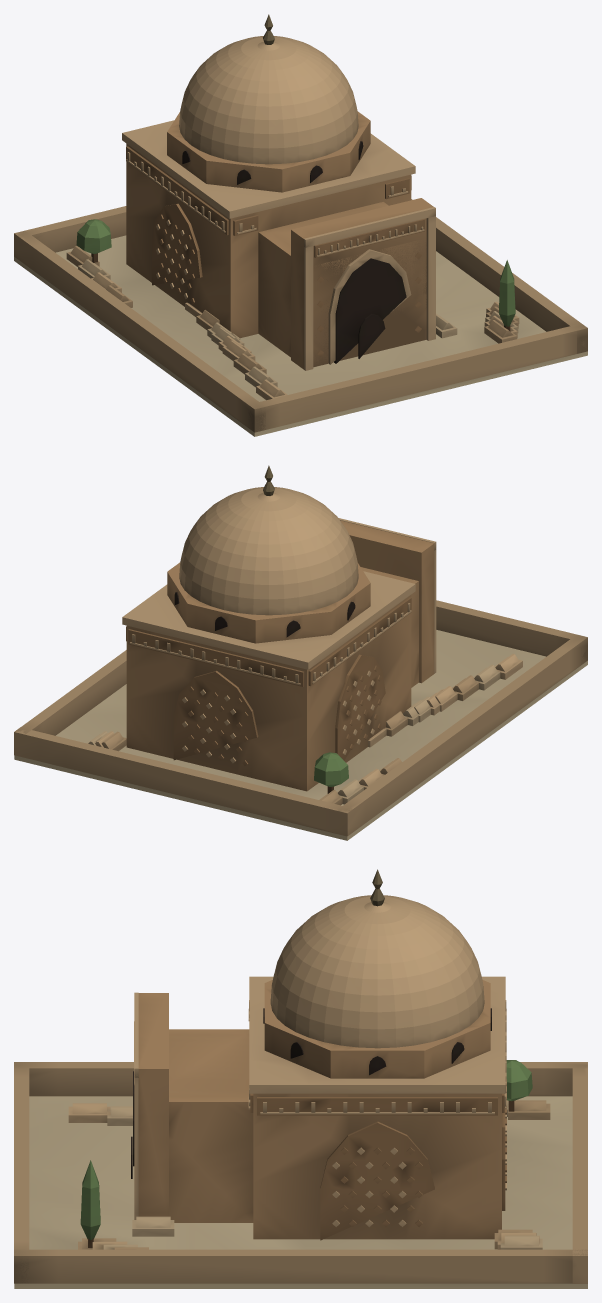
The model's file is muhammad-ibn-zayd.glb.
3 views of the same model, one above another, from view 1: azimuth 30°, elevation 25°; view 2: azimuth 150°, elevation 25°; view 3: azimuth 270°, elevation 25° (orthographic). The views are drawn at different scales.
Visible parts, largest first — view 1: p1_mausoleum, p0_court; view 2: p1_mausoleum, p0_court; view 3: p1_mausoleum, p0_court.
Part boxes in pixels (<box>): p1_mausoleum: <box>122,14,435,370</box>; p0_court: <box>14,199,587,436</box>; p1_mausoleum: <box>122,465,436,791</box>; p0_court: <box>14,600,587,840</box>; p1_mausoleum: <box>131,869,506,1240</box>; p0_court: <box>14,1060,587,1288</box>.
Size of the model in its own units: 24.01 by 18.63 by 30.01.
